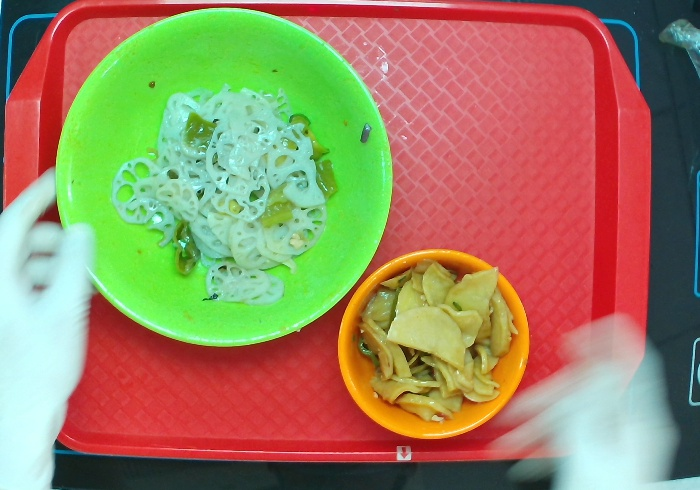YKMZ-Ju_Se_Yuan_Wan: (334, 248, 533, 443)
YKMZ-Lv_Se_Tang_Wan: (54, 5, 396, 350)
